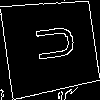U: (25, 21, 76, 65)
